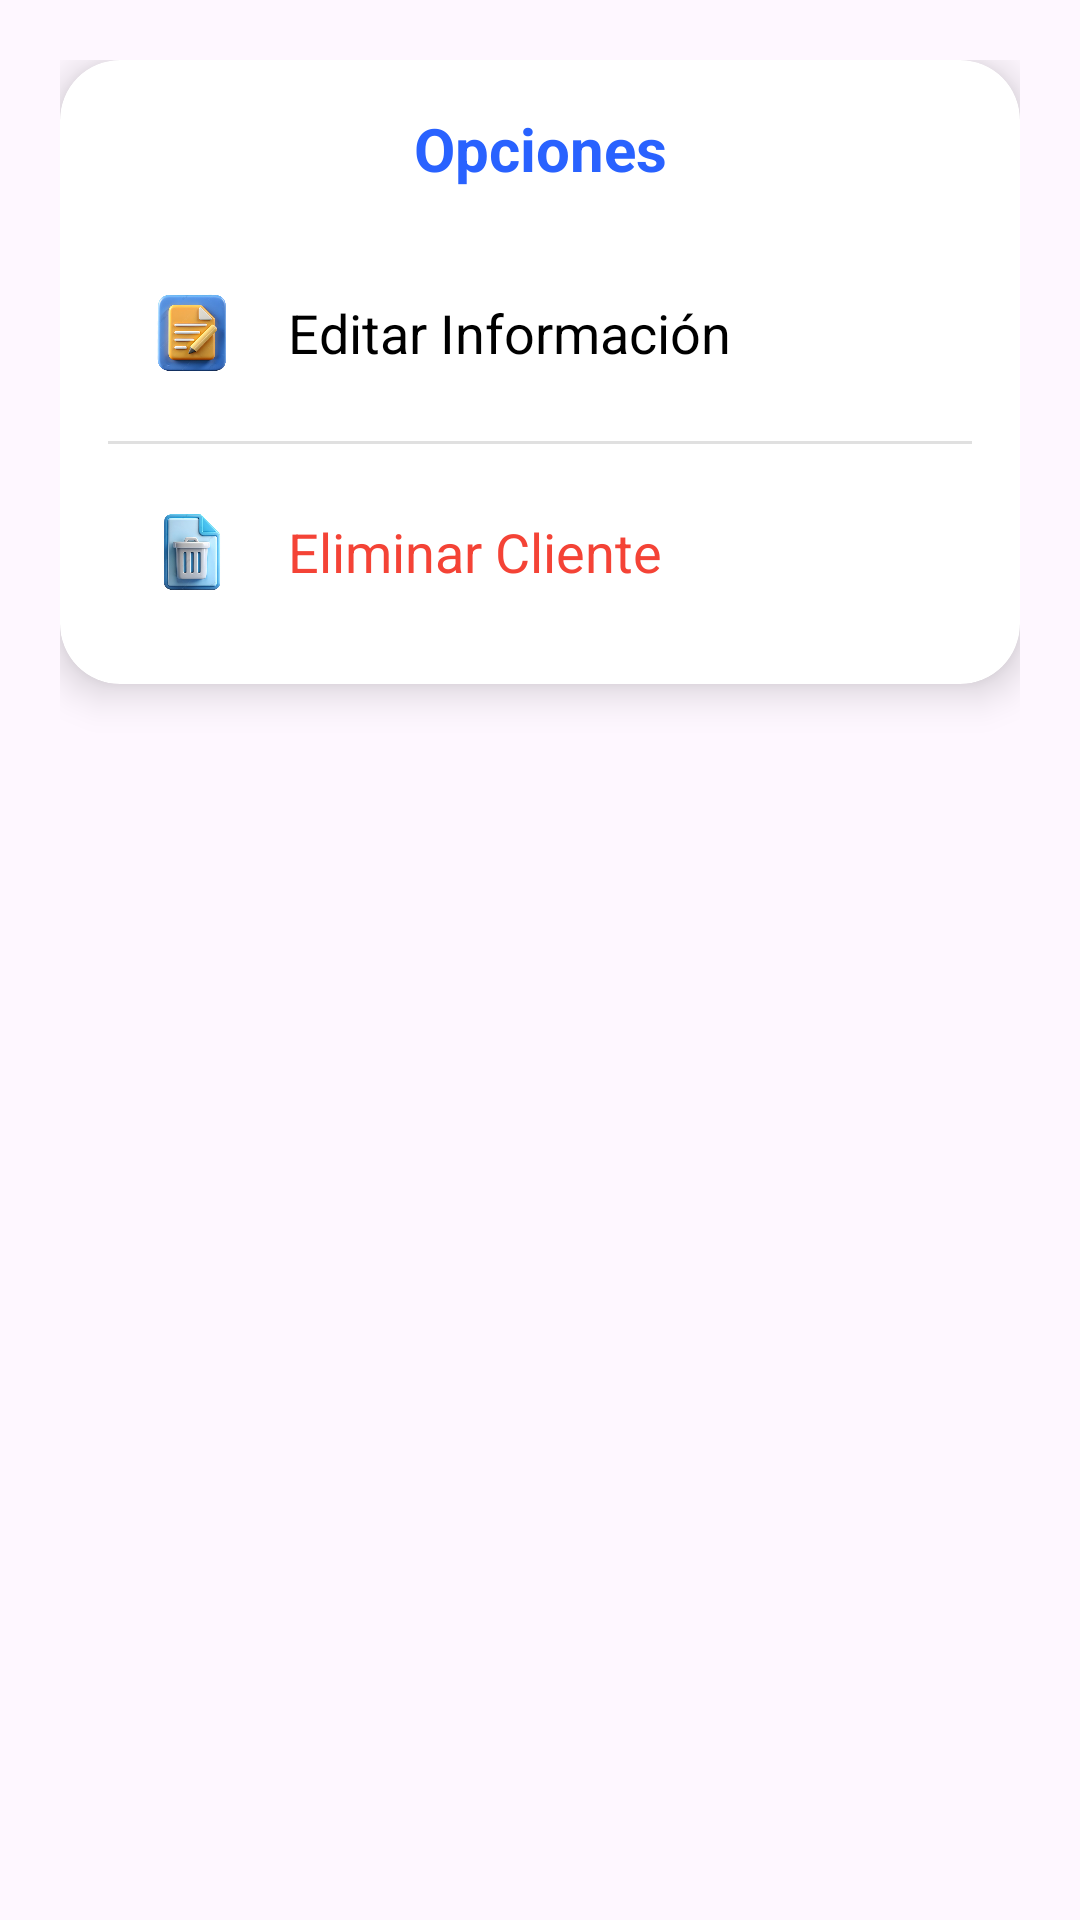

Named icons in this screenshot (1080 × 1920) and their bounding boxes, (x1=x1, y1=y1, x2=x2, y2=y2):
borrar: (x1=164, y1=514, x2=220, y2=590)
